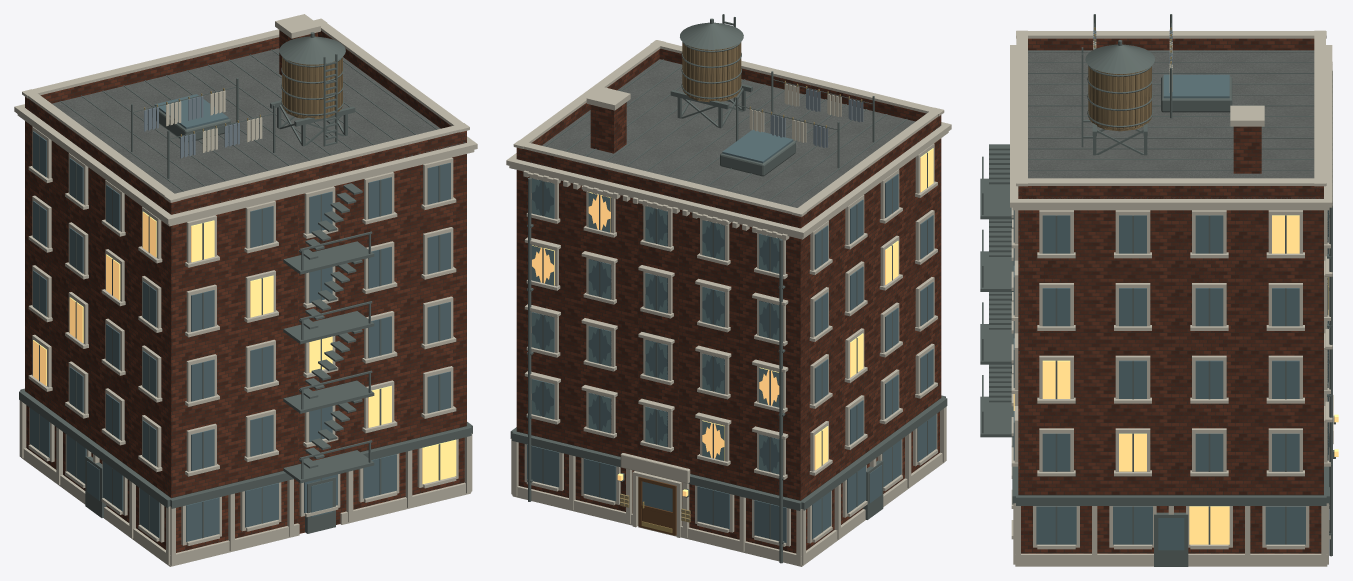
File: mercer-court.glb
3 views of the same model, side by side, from view 1: azimuth 30°, elevation 25°; view 2: azimuth 150°, elevation 25°; view 3: azimuth 270°, elevation 25° (orthographic). The views are drawn at different scales.
Visible parts, largest first — view 1: masonry wing, foundation wing, window pane, roof tar seam, roof, window pane.004, tank floor, linen folded panel.007, linen folded panel; view 2: masonry wing, foundation wing, roof, roof tar seam, window pane, window pane.029, window glass remnant, tank floor, window pane.004, window pane.030, linen folded panel, linen folded panel.007 (+2 smaller); view 3: masonry wing, foundation wing, roof, roof tar seam, window pane, window pane.004, tank floor.
Part boxes in pixels (x1=…): masonry wing: x1=25, y1=30, x2=466, y2=552; foundation wing: x1=14, y1=14, x2=477, y2=566; window pane: x1=30, y1=94, x2=450, y2=541; roof tar seam: x1=19, y1=32, x2=472, y2=538; roof: x1=25, y1=48, x2=465, y2=213; window pane.004: x1=33, y1=211, x2=456, y2=484; tank floor: x1=282, y1=57, x2=342, y2=119; linen folded panel.007: x1=166, y1=90, x2=262, y2=152; linen folded panel: x1=144, y1=96, x2=239, y2=158; masonry wing: x1=516, y1=48, x2=941, y2=553; foundation wing: x1=506, y1=40, x2=951, y2=566; roof: x1=523, y1=59, x2=941, y2=225; roof tar seam: x1=510, y1=14, x2=947, y2=563; window pane: x1=527, y1=129, x2=936, y2=542; window pane.029: x1=532, y1=178, x2=781, y2=472; window glass remnant: x1=531, y1=179, x2=779, y2=474; tank floor: x1=682, y1=42, x2=741, y2=102; window pane.004: x1=617, y1=148, x2=933, y2=496; window pane.030: x1=532, y1=192, x2=779, y2=460; linen folded panel: x1=770, y1=88, x2=863, y2=147; linen folded panel.007: x1=749, y1=83, x2=841, y2=142; masonry wing: x1=1018, y1=38, x2=1323, y2=553; foundation wing: x1=1010, y1=30, x2=1333, y2=566; roof: x1=1019, y1=50, x2=1323, y2=198; roof tar seam: x1=980, y1=14, x2=1335, y2=566; window pane: x1=1013, y1=74, x2=1305, y2=550; window pane.004: x1=1013, y1=215, x2=1338, y2=544; tank floor: x1=1088, y1=66, x2=1151, y2=131.
Size of the model in its own units: 14.65 by 20.46 by 14.08.
Materials: 14 (3 with a texture image).
